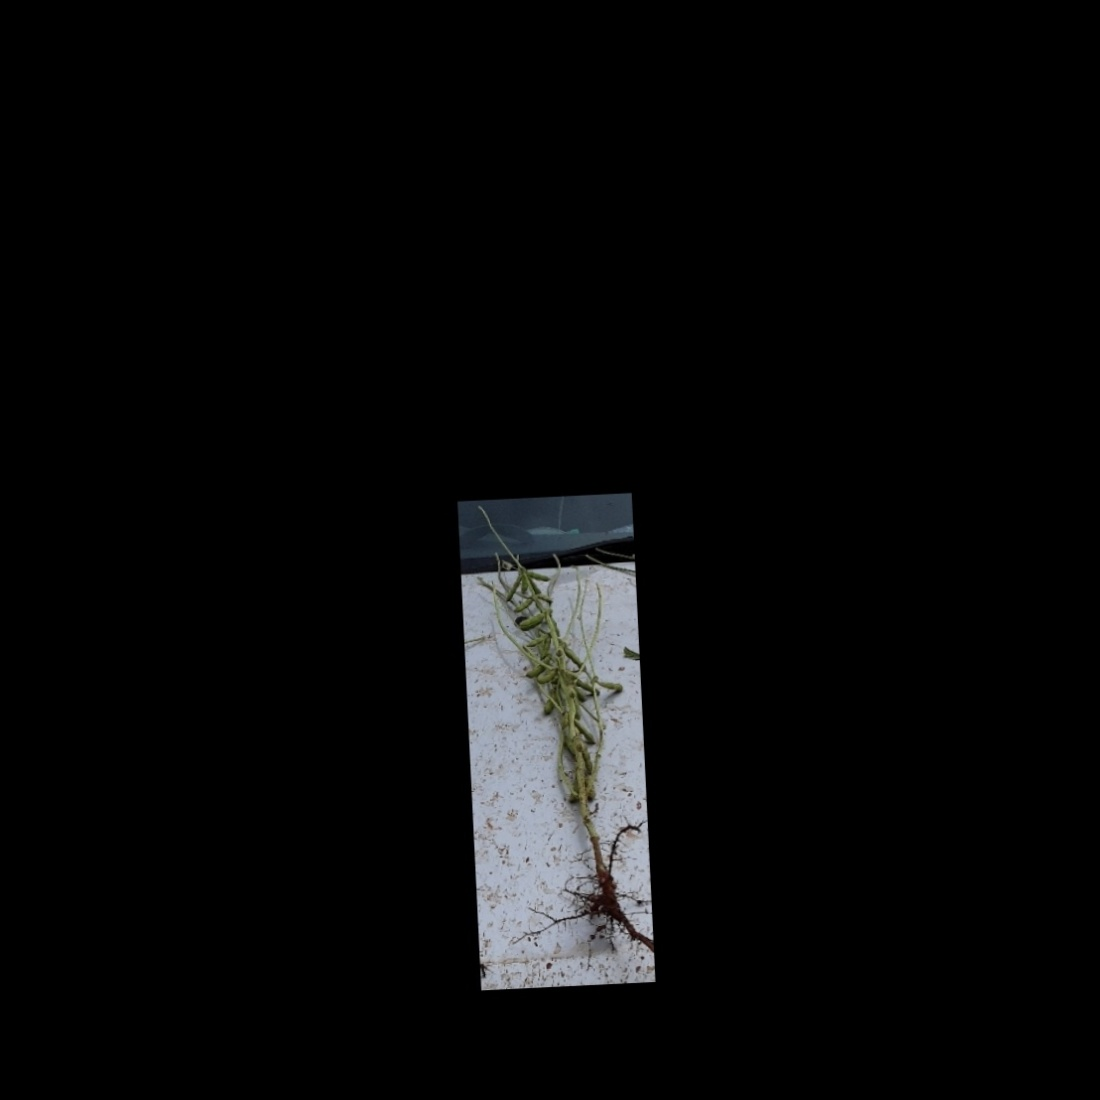pod: (570, 715, 598, 746), (501, 569, 525, 605), (514, 610, 547, 634), (578, 740, 599, 776), (520, 631, 550, 653), (532, 666, 559, 690), (520, 567, 551, 586)
soy: (465, 544, 643, 942)
